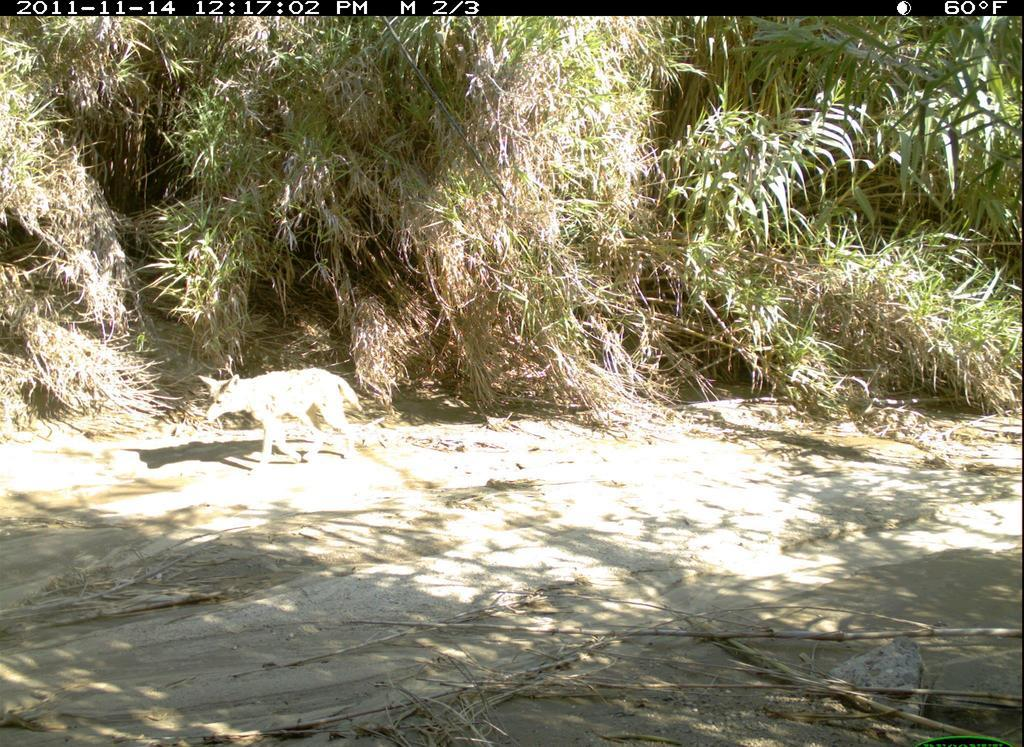coyote: (196, 367, 368, 469)
